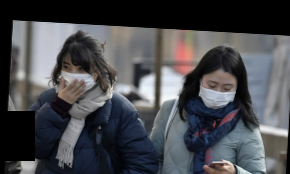with_mask: (59, 61, 96, 94), (198, 78, 236, 108)
